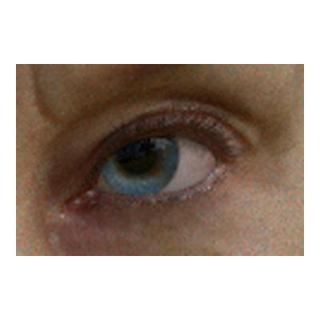pupil: (118, 137, 155, 174)
